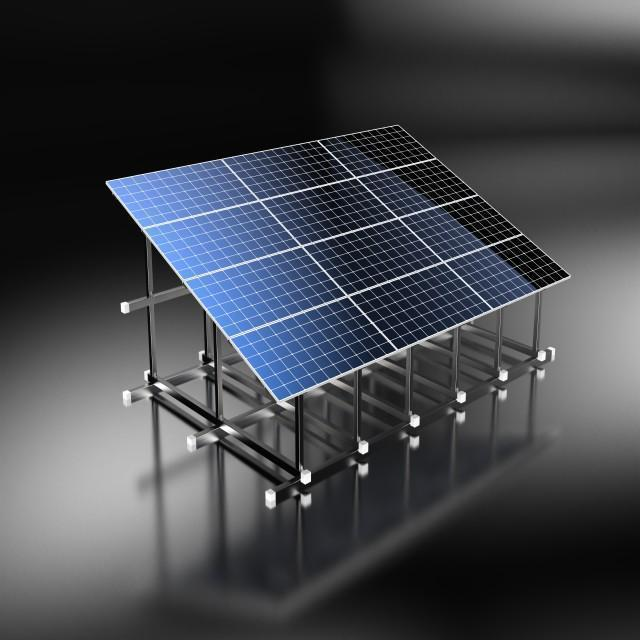Normal Solar Panel: (107, 123, 572, 400)
